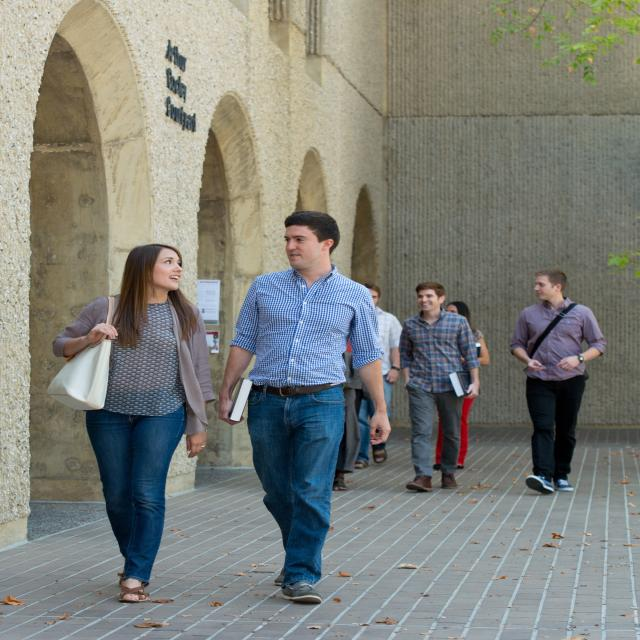body: (211, 207, 392, 604), (46, 242, 221, 606), (508, 267, 610, 496), (398, 280, 485, 492), (432, 300, 492, 472), (351, 282, 404, 469), (329, 349, 383, 496)
